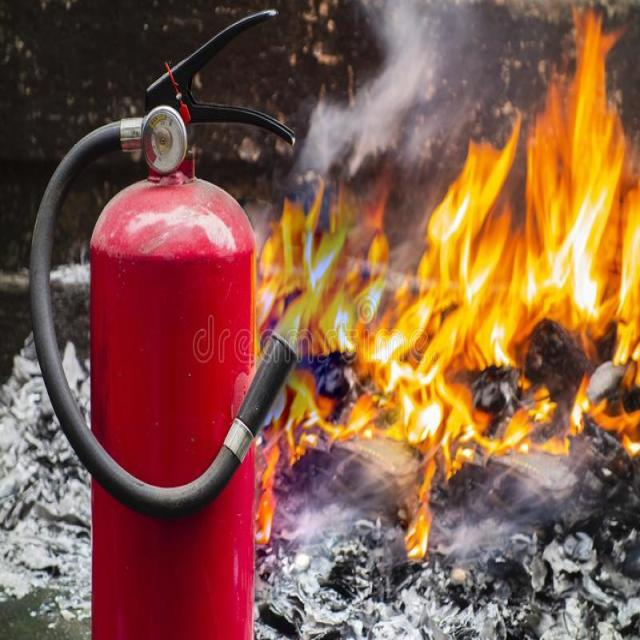fire_extinguisher: (24, 4, 307, 638)
